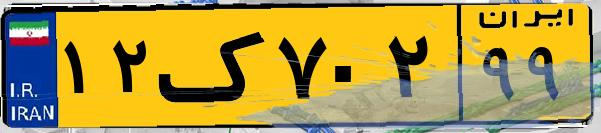0: (330, 28, 385, 110)
1: (57, 26, 110, 100)
2: (385, 28, 445, 110), (110, 28, 158, 98)
7: (270, 28, 330, 110)
9: (475, 38, 525, 113), (525, 38, 570, 115)
ک: (158, 12, 270, 120)
